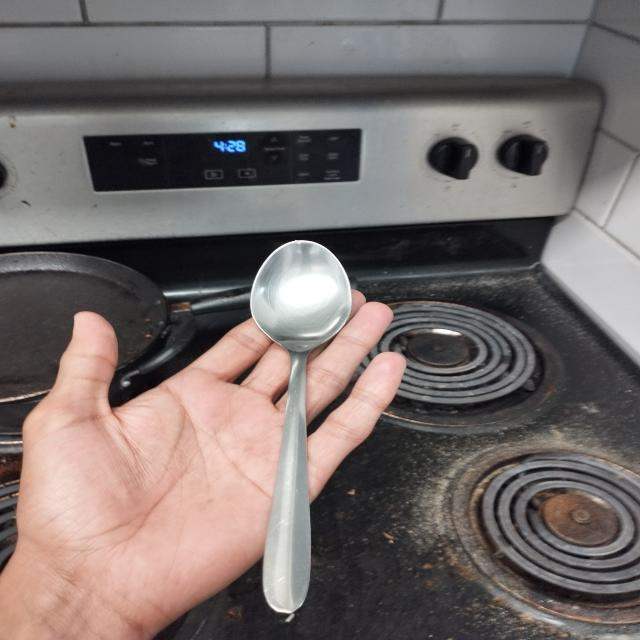Spoon: (217, 220, 365, 640)
